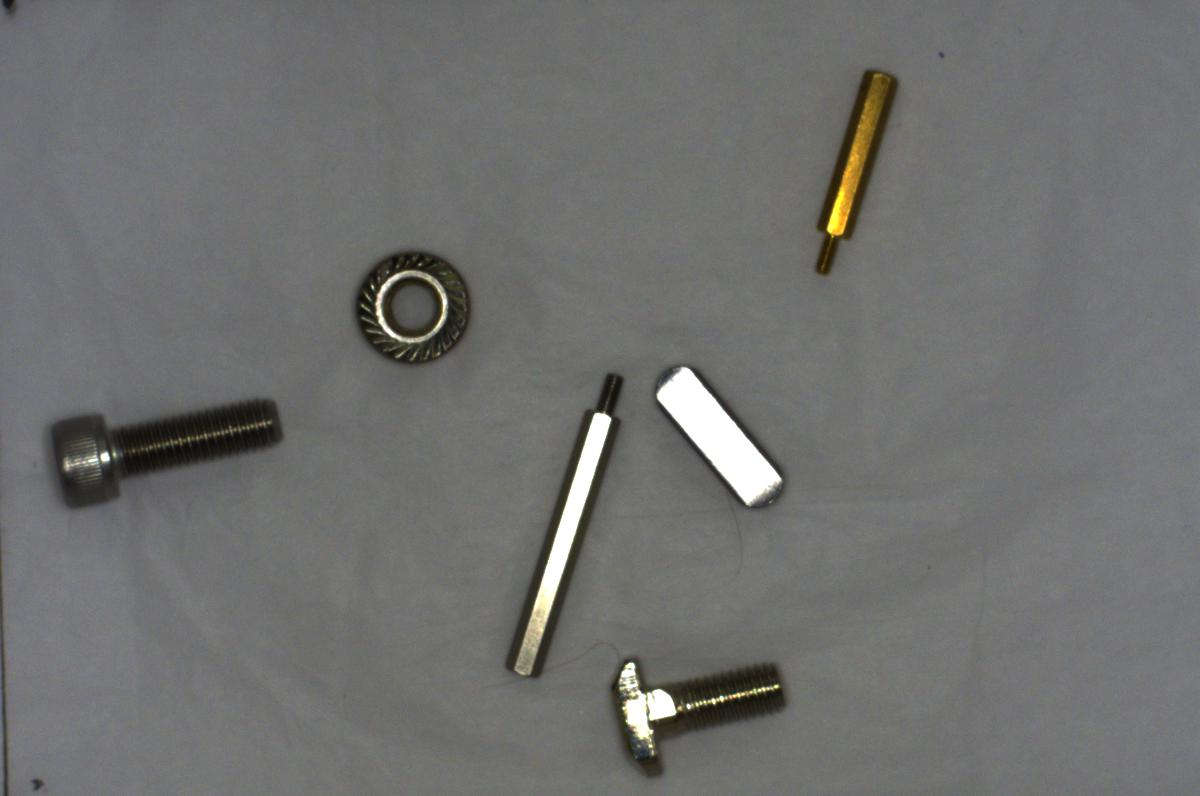Flange nut: (348, 242, 475, 370)
Hexagon pillar: (801, 65, 900, 278)
Hexagon screw: (46, 393, 287, 518)
Hexagonal steel column: (495, 365, 625, 683)
Keybar: (650, 352, 794, 513)
T-shaped screw: (610, 650, 795, 779)
